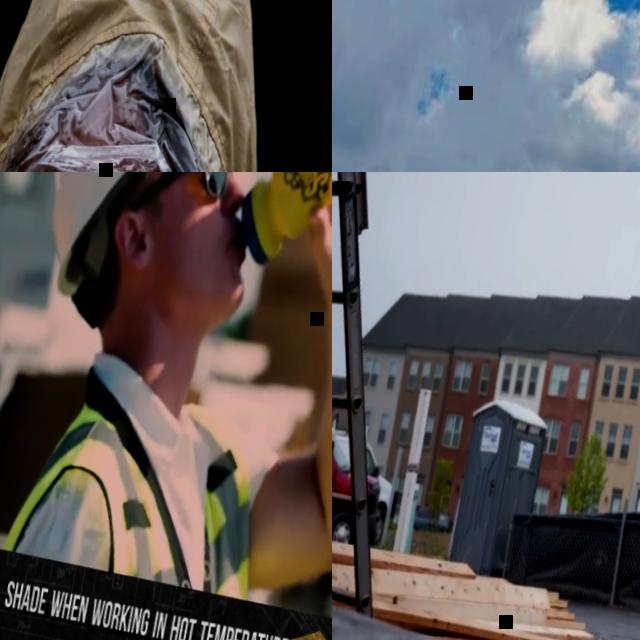Hardhat: (35, 172, 255, 327)
NO-Hardhat: (0, 0, 284, 172)
NO-Mask: (97, 185, 259, 332)
Person: (0, 172, 332, 625), (0, 0, 332, 172)
Safety Vest: (0, 355, 285, 602)
vehicle: (332, 417, 395, 551), (335, 434, 400, 541)
